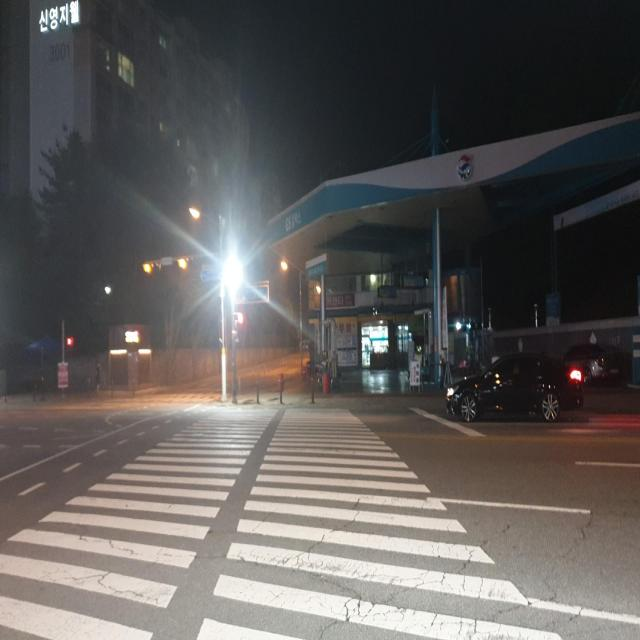빨간불: (68, 331, 74, 355)
횡단보도: (0, 405, 563, 639)
